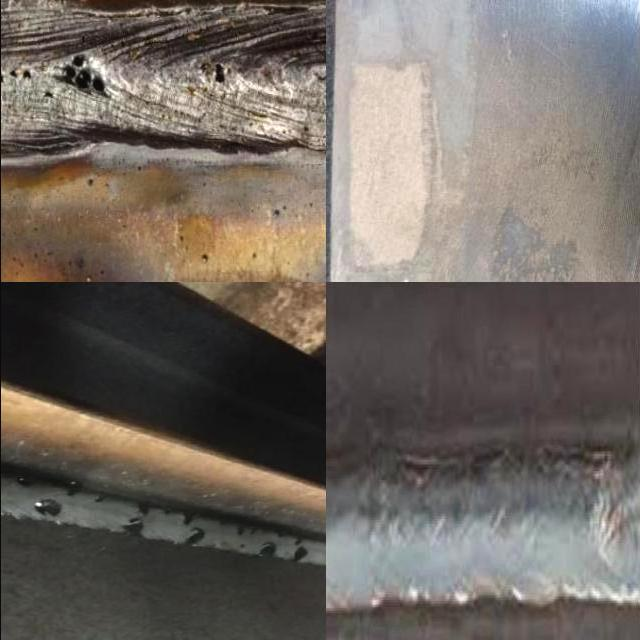defect: (49, 50, 111, 101), (31, 495, 68, 518), (113, 515, 147, 539), (0, 65, 35, 87), (211, 60, 233, 85), (290, 537, 309, 564), (184, 527, 208, 547), (64, 480, 85, 498), (257, 543, 280, 558), (178, 509, 194, 527), (15, 473, 34, 488), (235, 527, 259, 537), (135, 503, 151, 516), (93, 493, 108, 505), (43, 91, 55, 102), (164, 508, 173, 518), (236, 542, 246, 550)
